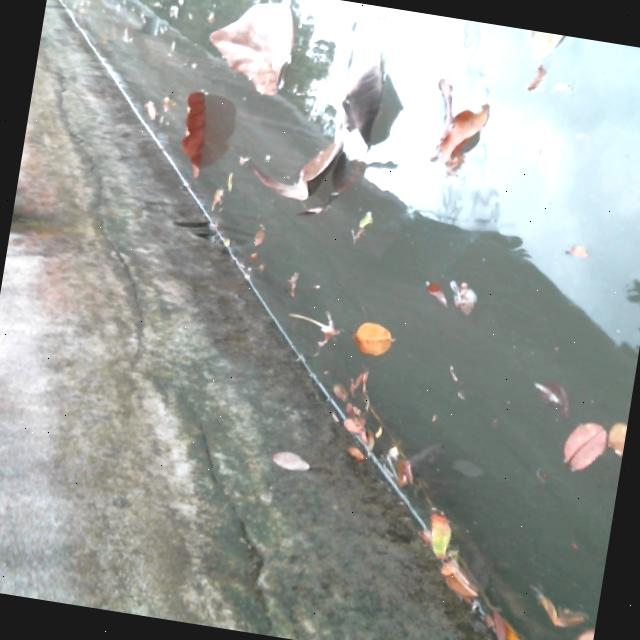Big-leaf: (251, 29, 398, 223), (415, 64, 508, 185), (198, 0, 312, 96), (161, 87, 224, 184)
Small-leaf: (514, 580, 595, 640), (549, 412, 609, 485), (421, 553, 485, 610), (408, 494, 459, 561), (350, 209, 399, 260), (350, 322, 402, 365), (422, 276, 466, 321), (527, 30, 575, 71), (448, 278, 489, 324), (384, 452, 424, 494), (601, 416, 628, 460), (206, 182, 231, 217), (248, 224, 275, 254), (565, 627, 595, 640)
